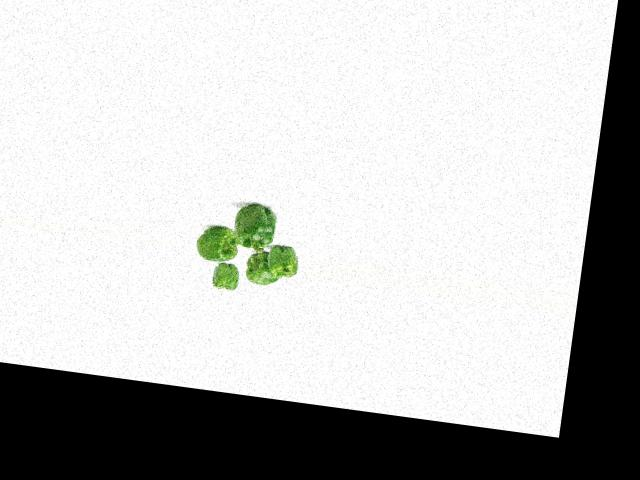bell_pepper: (263, 239, 301, 278)
